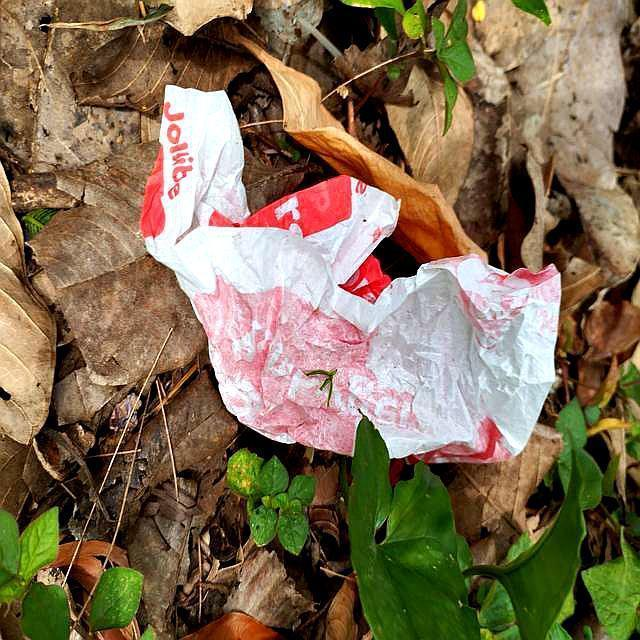Biodegradable: (139, 87, 565, 463)
